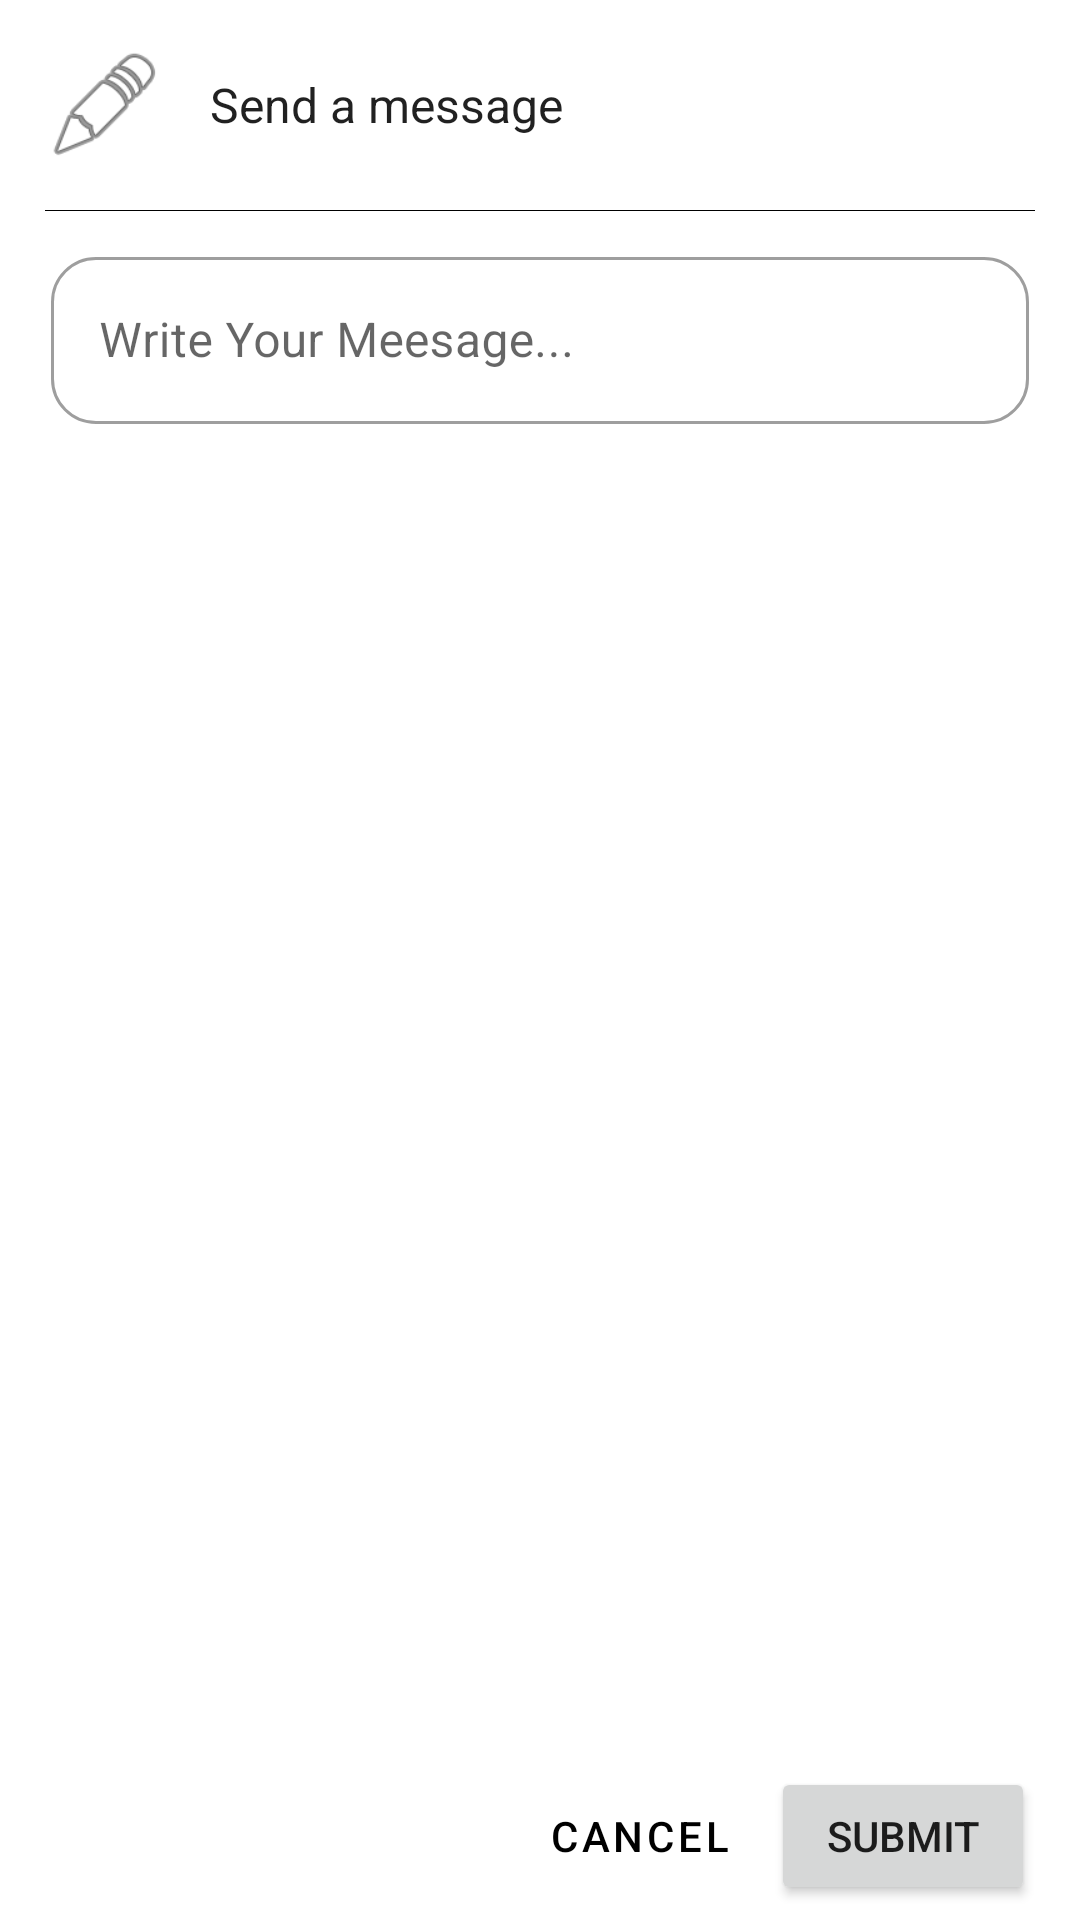

Icons on this 1080*1920 Android screen, each with its box as (x1, y1, x2, y2):
edit: (54, 53, 155, 155)
